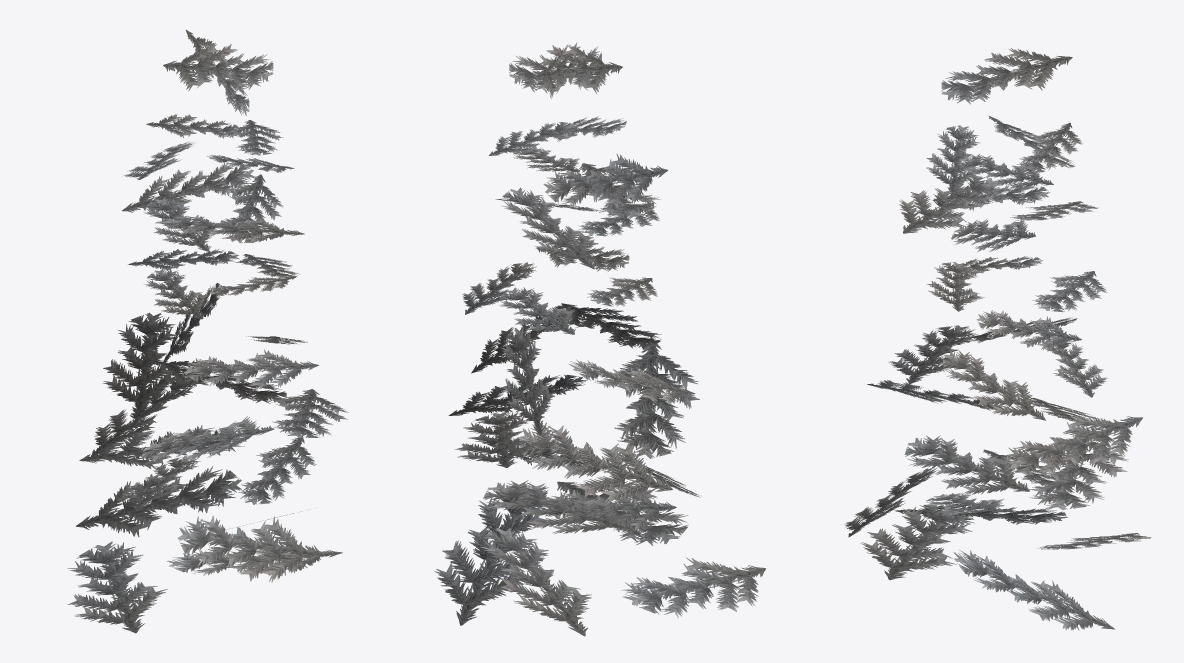
File: fir_slim_l2.gltf
3 renders of one model, left to right at view 1: azimuth 30°, elevation 25°; view 2: azimuth 150°, elevation 25°; view 3: azimuth 270°, elevation 25°, orthographic. The views are drawn at different scales.
Parts seen in each view (by area): view 1: fir_slim_l2; view 2: fir_slim_l2; view 3: fir_slim_l2.
Boxes of the visible parts, x1,y1,x2,y2 form: fir_slim_l2: [67, 30, 348, 633]; fir_slim_l2: [434, 42, 766, 636]; fir_slim_l2: [844, 48, 1151, 630].
Size of the model in its own units: 8.94 by 14.29 by 7.84.
Materials: 1 (1 with a texture image).
